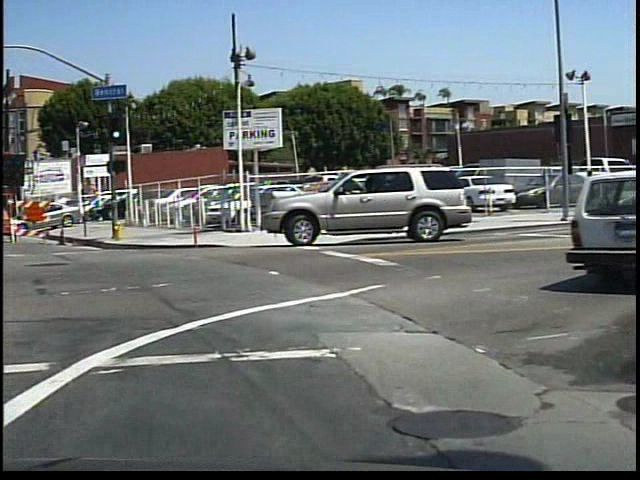person: (580, 163, 600, 214)
